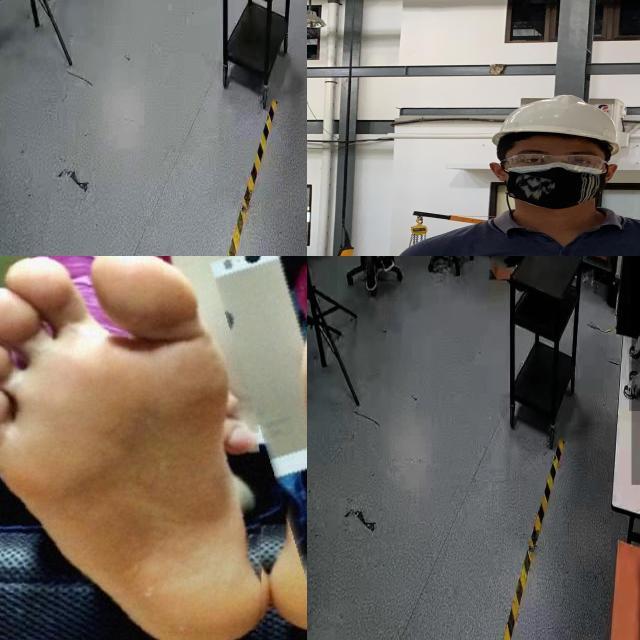Barefoots: (0, 256, 251, 640)
face_mask: (496, 147, 614, 205)
glasses: (498, 152, 610, 172)
hand_glove: (629, 355, 640, 412), (632, 311, 640, 363)
head_helmet: (489, 90, 626, 150)
person: (373, 92, 640, 256)
shoes: (360, 256, 378, 294), (375, 256, 394, 277)
